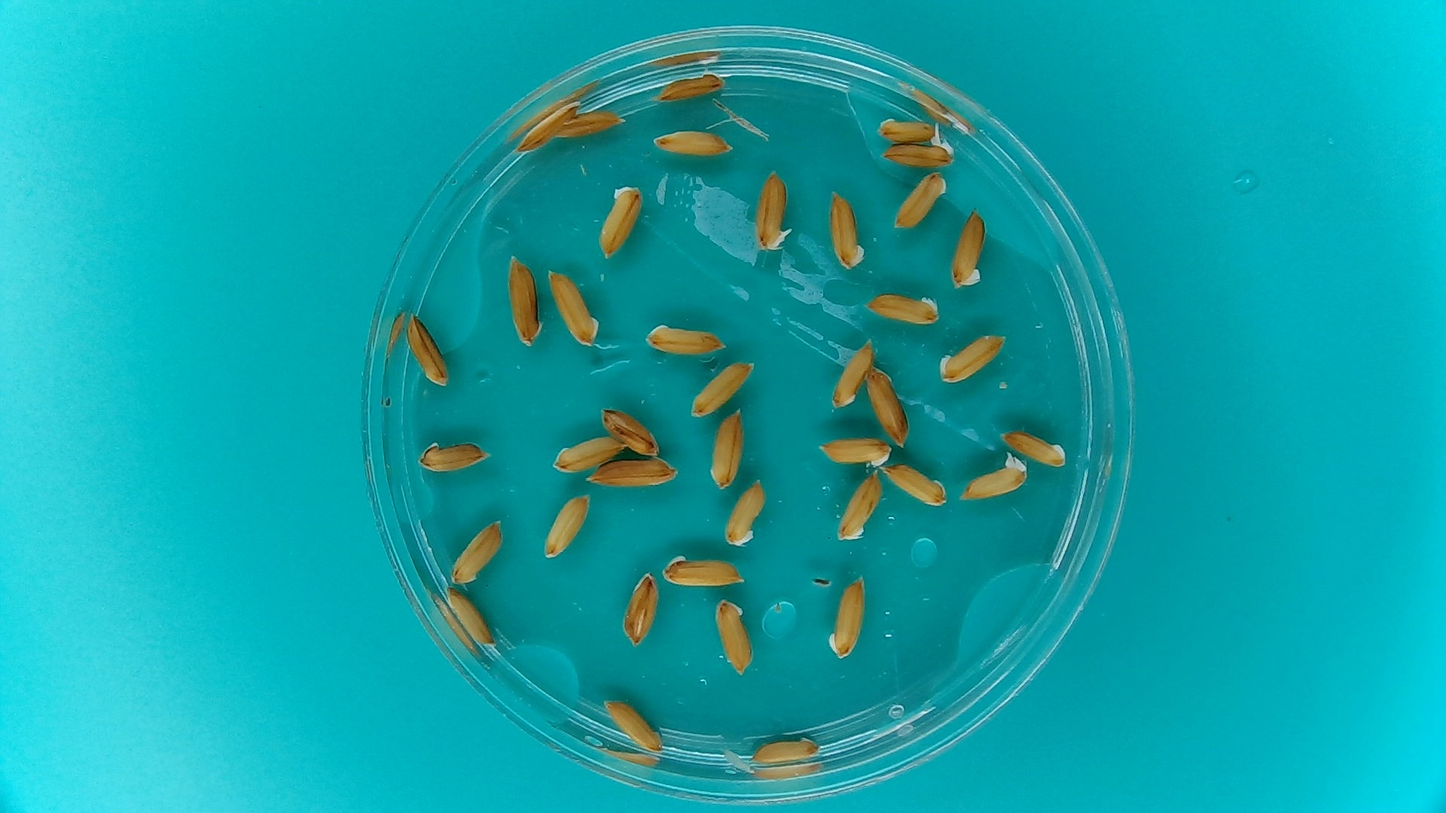no: (545, 264, 602, 349), (860, 364, 911, 450), (448, 515, 509, 586), (688, 359, 758, 419), (833, 468, 887, 544), (602, 695, 667, 757), (595, 183, 646, 260), (505, 251, 545, 349), (442, 583, 499, 651), (537, 493, 592, 562), (831, 336, 879, 414), (826, 575, 868, 663), (937, 333, 1008, 385), (514, 99, 581, 154), (892, 169, 951, 231), (712, 595, 755, 678), (403, 314, 451, 388), (722, 477, 770, 550), (949, 206, 990, 291), (598, 405, 661, 460), (547, 433, 633, 473), (877, 462, 949, 508), (642, 320, 729, 358), (581, 455, 681, 488), (622, 568, 660, 651), (829, 190, 868, 269), (660, 553, 745, 589), (868, 289, 943, 329), (709, 406, 743, 492), (649, 69, 728, 106), (999, 428, 1067, 470), (816, 434, 895, 470), (746, 733, 825, 769), (542, 108, 627, 141), (960, 464, 1031, 503), (417, 440, 490, 473), (651, 129, 734, 157), (874, 115, 944, 144)
yes: (753, 170, 792, 252), (882, 141, 955, 169)
